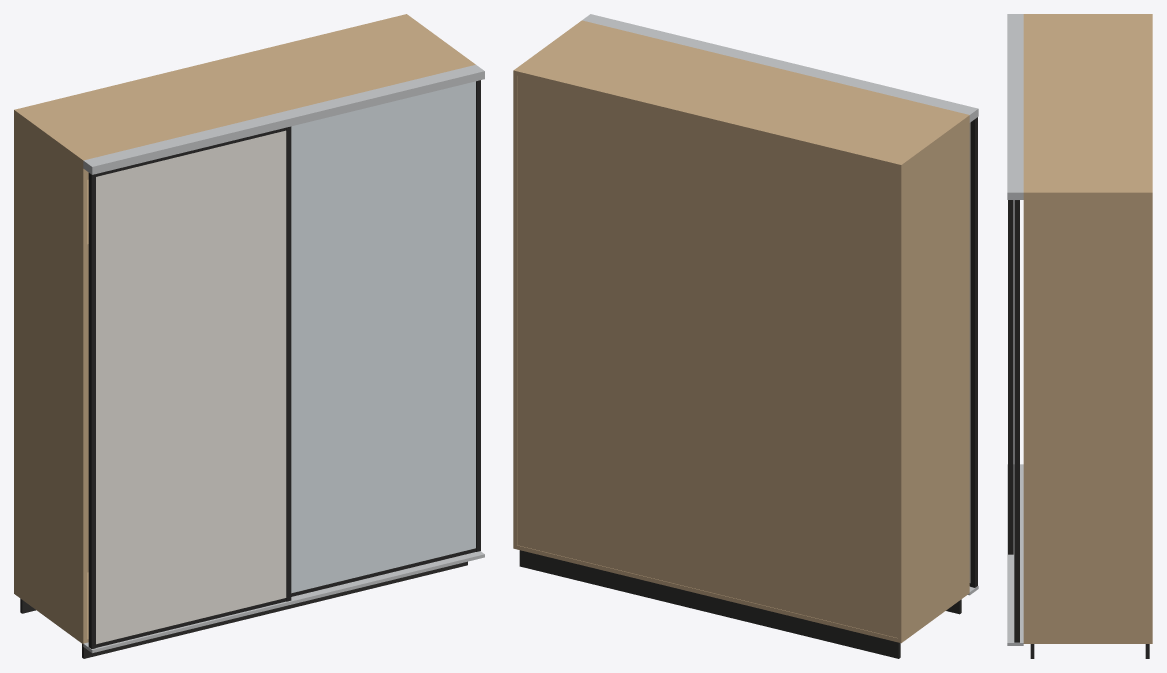
File: 10_szafa_przesuwna_180_lustro.glb
The picture shows the model from 3 angles, left to right: view 1: azimuth 30°, elevation 25°; view 2: azimuth 150°, elevation 25°; view 3: azimuth 270°, elevation 25°; orthographic projection. The views are drawn at different scales.
Visible parts, largest first — view 1: Front_panel_1, Lustro_2, Korpus, Uchwyty, Prowadnice, Cokol; view 2: Korpus, Cokol, Uchwyty, Prowadnice, Front_panel_1; view 3: Korpus, Prowadnice, Uchwyty.
Boxes of the visible parts, <box> form: Front_panel_1: <box>96,130,286,644</box>; Lustro_2: <box>291,81,475,593</box>; Korpus: <box>14,14,475,643</box>; Uchwyty: <box>88,80,480,648</box>; Prowadnice: <box>83,65,484,653</box>; Cokol: <box>20,561,467,658</box>; Korpus: <box>513,20,969,643</box>; Cokol: <box>519,550,961,658</box>; Uchwyty: <box>969,117,977,587</box>; Prowadnice: <box>582,14,978,595</box>; Front_panel_1: <box>969,122,970,583</box>; Korpus: <box>1023,14,1152,643</box>; Prowadnice: <box>1007,14,1023,645</box>; Uchwyty: <box>1008,200,1019,642</box>.
Size of the model in its own units: 1.8 by 2.2 by 0.62.
